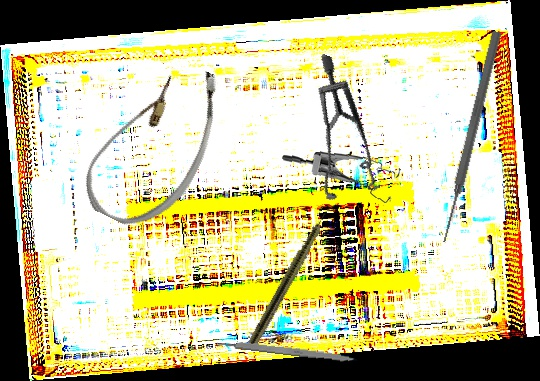Cannula: (72, 43, 239, 243)
Handpiece: (246, 198, 339, 349)
Pusher: (437, 30, 504, 244)
Scalpel Handle: (215, 337, 360, 364)
Speculum: (272, 53, 419, 216), (282, 145, 403, 211)
